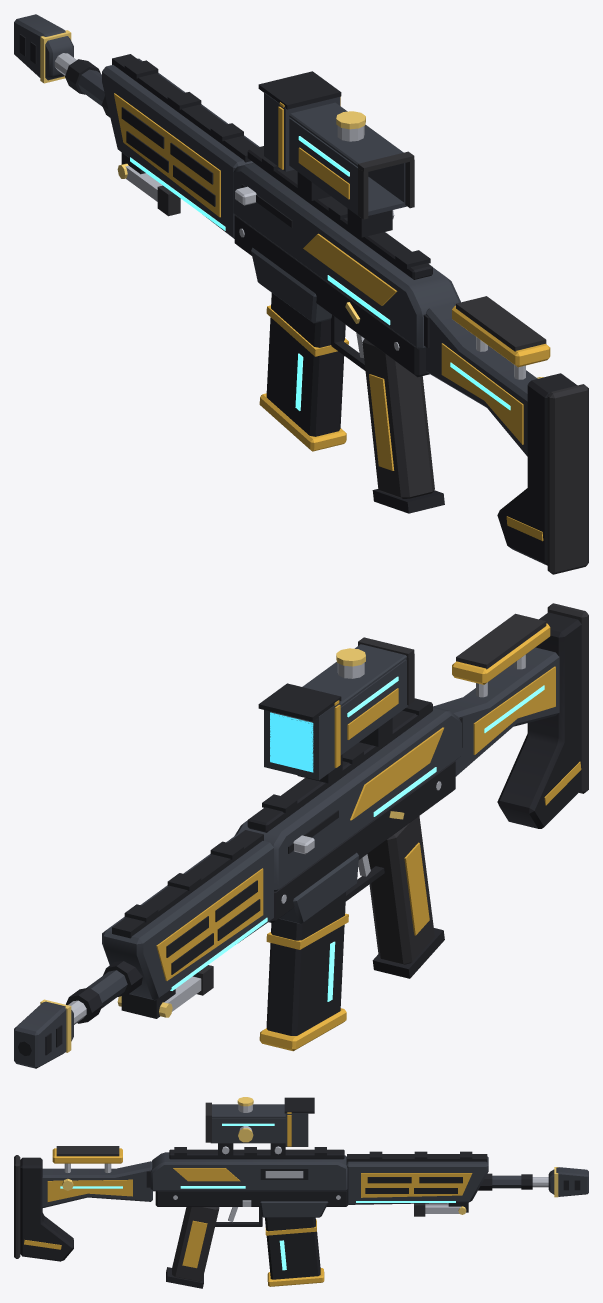
Rendered from RaptorDMR.glb.
3 views of the same model, one above another, from view 1: azimuth 30°, elevation 25°; view 2: azimuth 150°, elevation 25°; view 3: azimuth 270°, elevation 25° (orthographic). The views are drawn at different scales.
Visible parts, largest first — view 1: Receiver, ButtPad, Mag, Grip, Handguard, Butt, Lower, StockBeam, HgPlate, ScopeRoof, Rail, StockPlate (+16 smaller); view 2: Receiver, Butt, Mag, Handguard, Grip, Lower, StockBeam, HgPlate, Rail, Brake, HgRail, StockPlate (+20 smaller); view 3: Receiver, Butt, Handguard, Mag, Lower, StockBeam, Grip, Rail, HgPlate, ScopeWall1, StockPlate, Magwell (+19 smaller).
Part boxes in pixels (bbox=[...]): Receiver: bbox=[233, 162, 460, 350]; ButtPad: bbox=[547, 384, 588, 574]; Mag: bbox=[266, 293, 345, 436]; Grip: bbox=[362, 339, 434, 498]; Handguard: bbox=[102, 58, 259, 238]; Butt: bbox=[497, 373, 577, 565]; Lower: bbox=[234, 215, 429, 377]; StockBeam: bbox=[426, 302, 537, 456]; HgPlate: bbox=[114, 93, 220, 217]; ScopeRoof: bbox=[289, 102, 403, 166]; Rail: bbox=[247, 146, 432, 279]; StockPlate: bbox=[441, 343, 523, 444]; Receiver: bbox=[234, 707, 461, 891]; Butt: bbox=[497, 612, 581, 828]; Mag: bbox=[266, 892, 345, 1035]; Handguard: bbox=[102, 834, 273, 1000]; Grip: bbox=[367, 816, 434, 964]; Lower: bbox=[268, 761, 455, 922]; StockBeam: bbox=[433, 647, 559, 776]; HgPlate: bbox=[156, 868, 263, 980]; Rail: bbox=[247, 698, 432, 832]; Brake: bbox=[14, 1001, 73, 1068]; HgRail: bbox=[112, 830, 263, 938]; StockPlate: bbox=[473, 666, 555, 754]; Receiver: bbox=[150, 1152, 347, 1191]; Butt: bbox=[20, 1157, 73, 1261]; Handguard: bbox=[346, 1156, 488, 1204]; Mag: bbox=[265, 1217, 320, 1279]; Lower: bbox=[155, 1190, 348, 1206]; StockBeam: bbox=[42, 1161, 152, 1207]; Grip: bbox=[172, 1207, 219, 1281]; Rail: bbox=[169, 1149, 344, 1159]; HgPlate: bbox=[361, 1173, 472, 1197]; ScopeWall1: bbox=[212, 1118, 285, 1140]; StockPlate: bbox=[47, 1179, 132, 1201]; Magwell: bbox=[260, 1201, 328, 1217].
Size of the model in its own units: 0.365 by 1.62 by 4.59.
